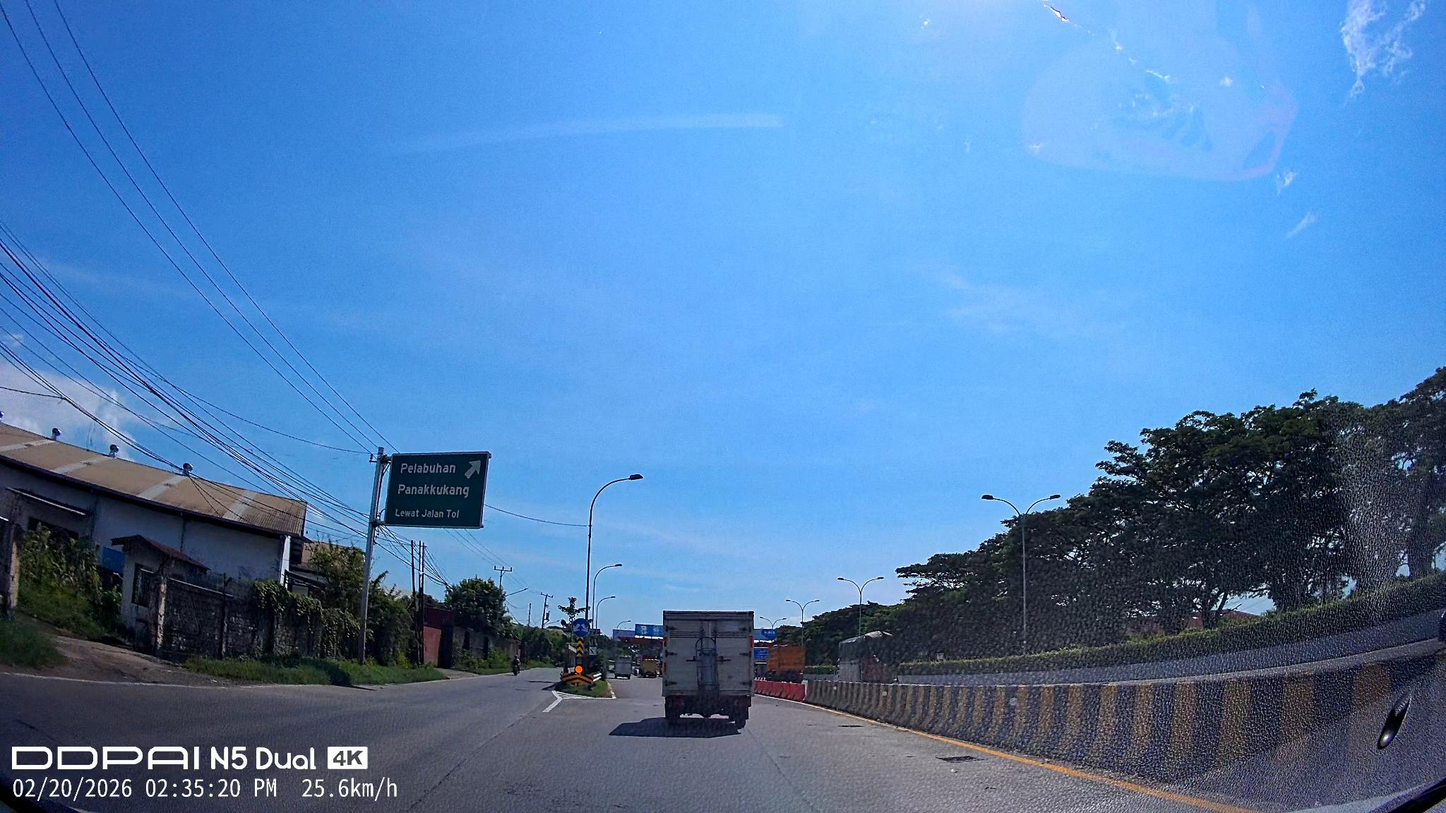rambu_teks: (383, 451, 492, 529)
